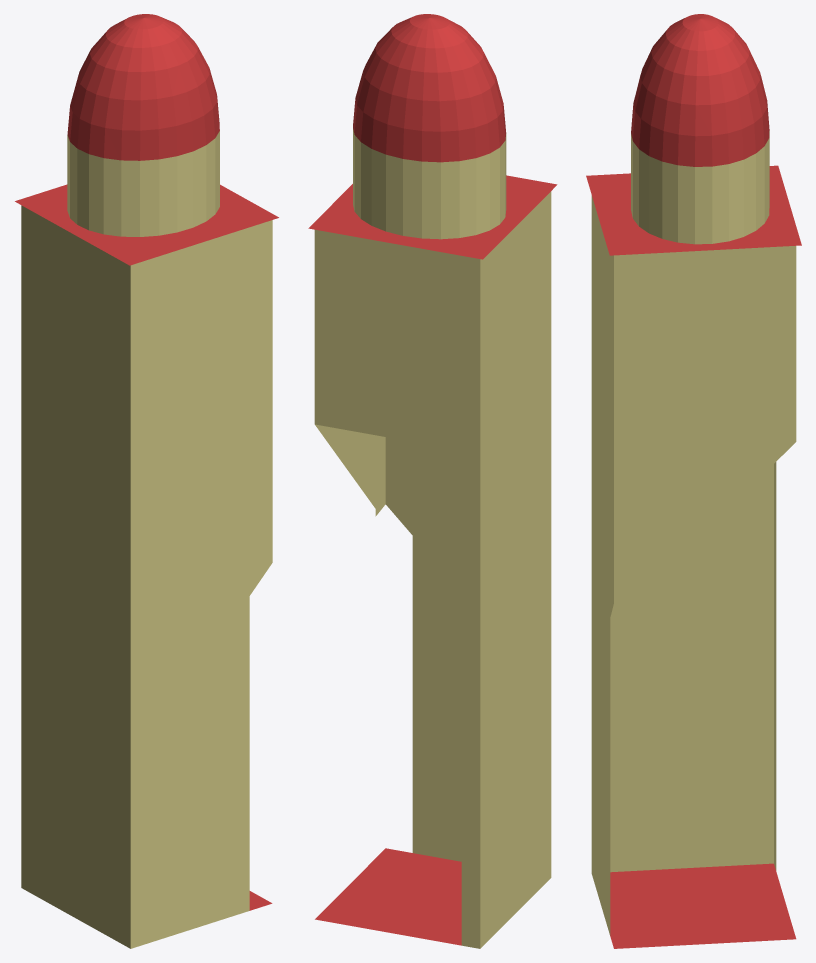
The picture shows the model from 3 angles, left to right: view 1: azimuth 30°, elevation 25°; view 2: azimuth 150°, elevation 25°; view 3: azimuth 270°, elevation 25°; orthographic projection.
Bounding box in the file's own units: 10.8 × 10.94 × 49.63.
